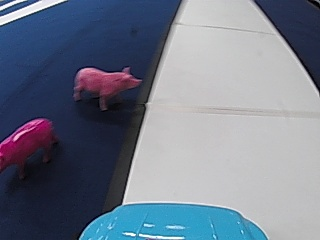pig: (1, 113, 57, 175), (71, 62, 140, 109)
